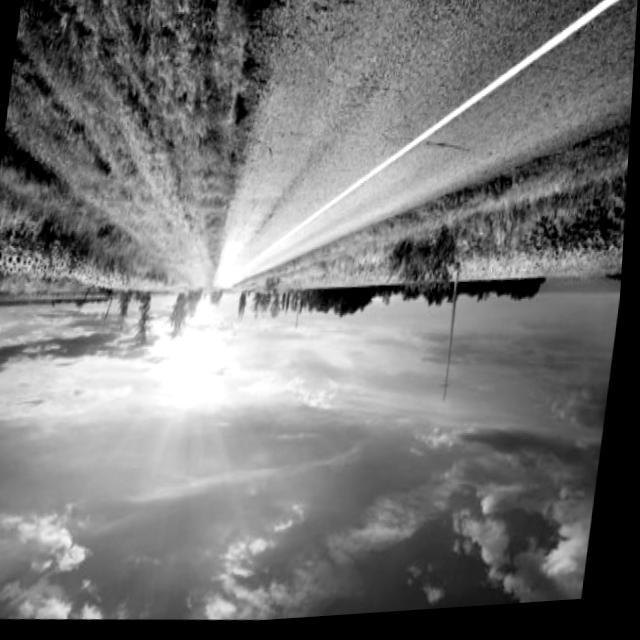cleat: (116, 0, 638, 405)
